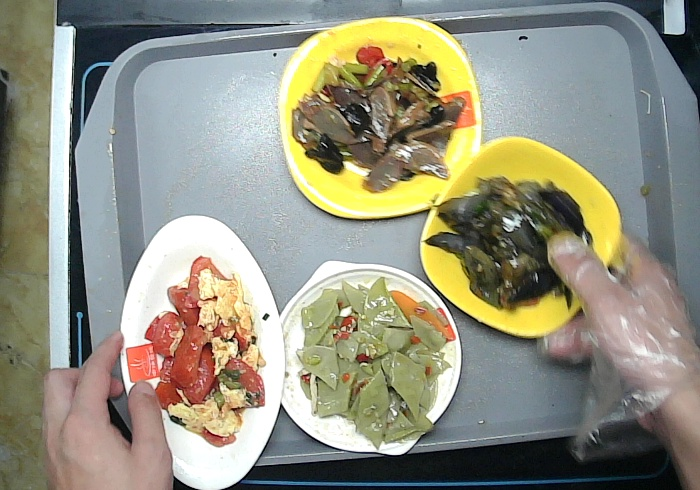SHKJ-Bao_Yu_Pan: (274, 257, 465, 459)
SHKJ-Huang_Se_Cai_Die: (417, 133, 625, 343)
SHKJ-Huang_Se_Si_Fang_Cai_Die: (274, 12, 486, 226)
SHKJ-Yu_Pan: (115, 211, 290, 490)
